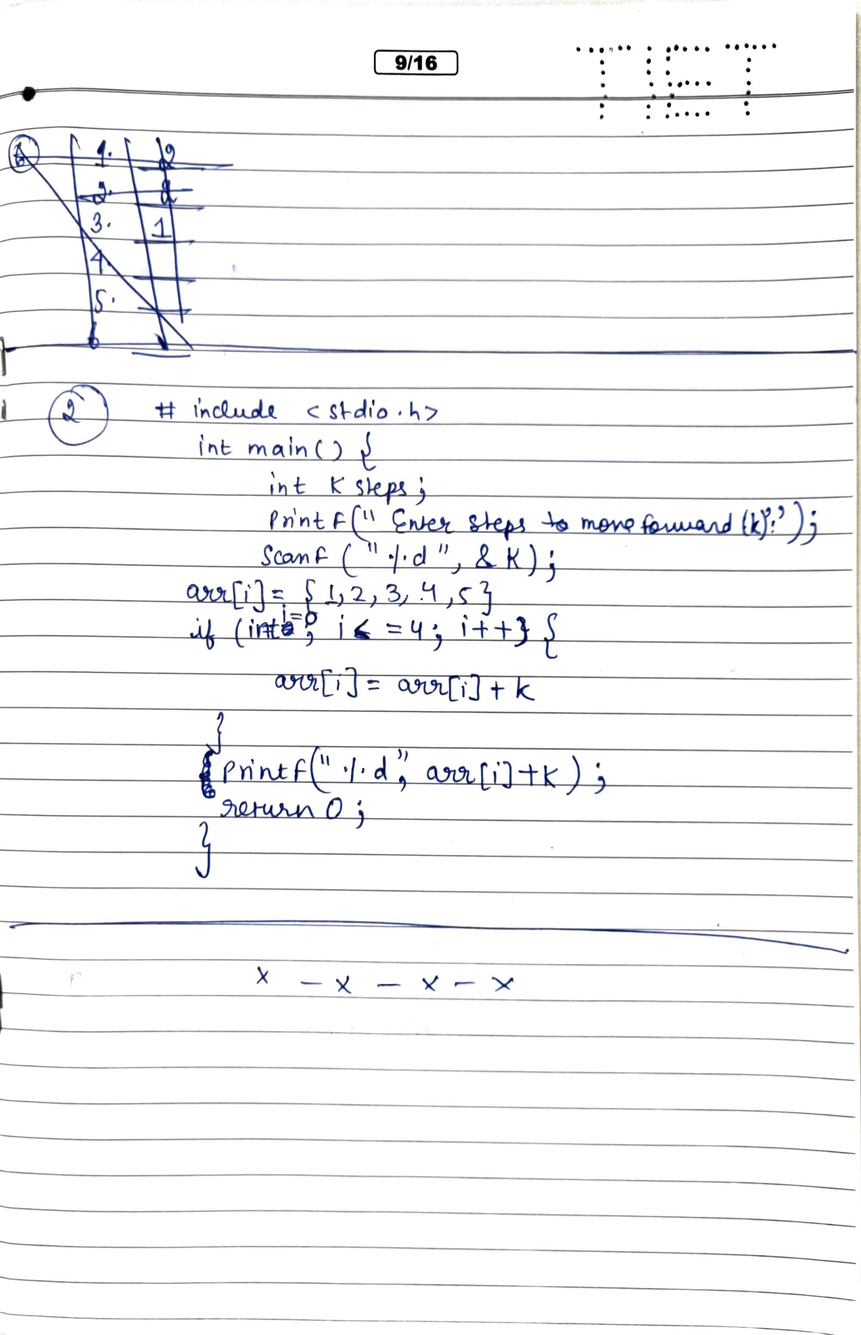cuttings: (2, 125, 244, 365), (245, 616, 297, 639), (198, 749, 218, 802)
